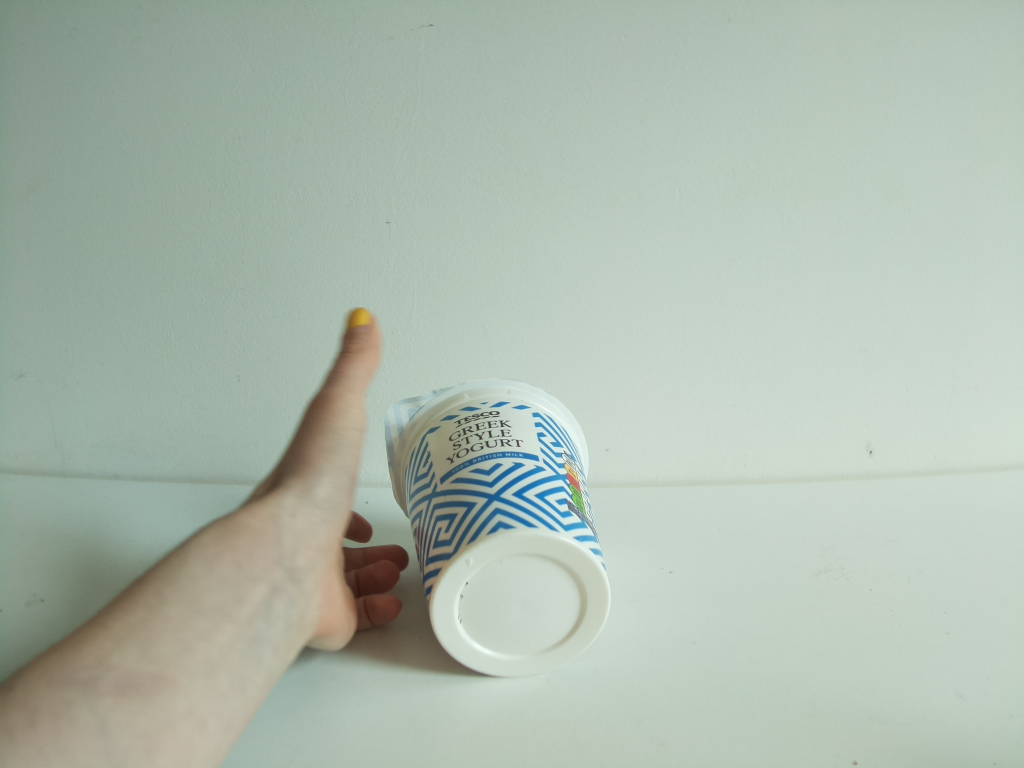yogurt: (377, 377, 617, 677)
